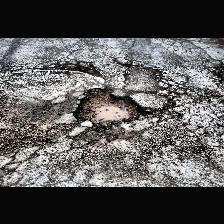pothole: (71, 85, 151, 129)
